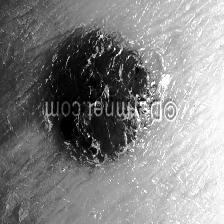Potentially Malignant Skin Tumors: (34, 22, 168, 162)
